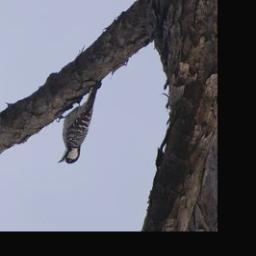Woodpecker: (53, 76, 106, 170)
